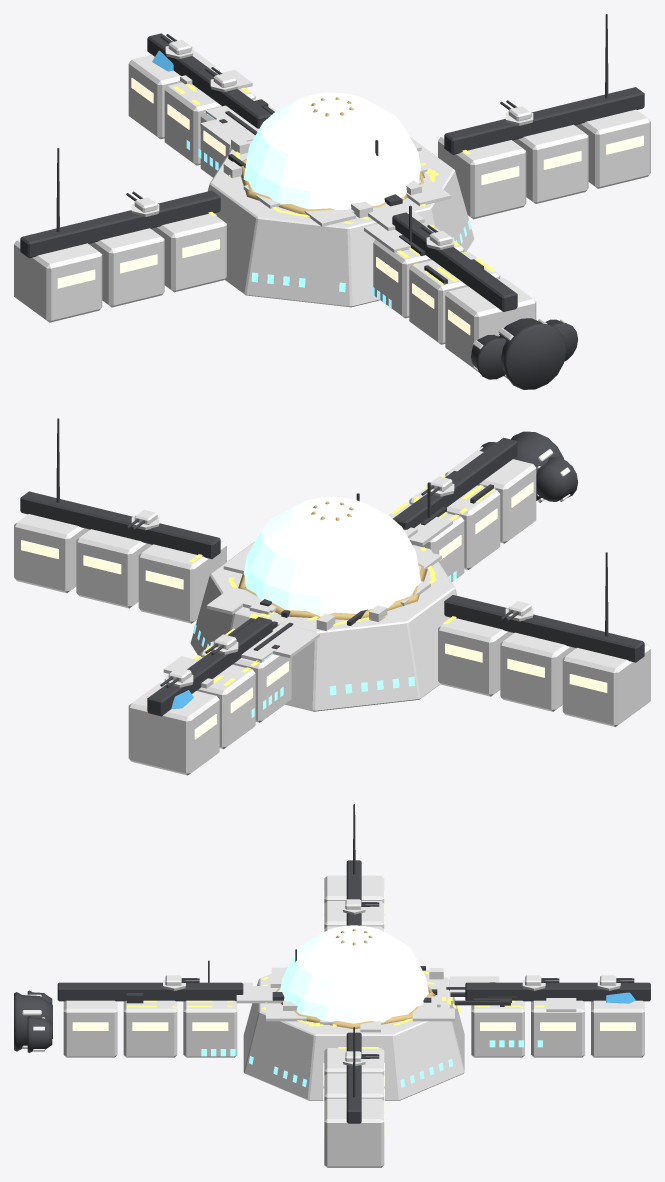
Rendered from veche.glb.
3 renders of one model, top to bottom at view 1: azimuth 30°, elevation 25°; view 2: azimuth 150°, elevation 25°; view 3: azimuth 270°, elevation 25°, orthographic. The views are drawn at different scales.
Parts seen in each view (by area): view 1: Ступица, Купол_совета, Накладные_плиты, Модуль.011, Модуль.006, Ферма_плеча.002, Ферма_плеча.003, Модуль.007, Модуль.010, Модуль.009, Модуль.008, Кожух_дюзы (+14 smaller); view 2: Ступица, Купол_совета, Модуль.002, Модуль.011, Накладные_плиты, Модуль.006, Ферма_плеча.003, Ферма_плеча.002, Модуль.010, Модуль.007, Модуль.008, Модуль.009 (+13 smaller); view 3: Ступица, Купол_совета, Модуль.008, Накладные_плиты, Ферма_плеча.001, Модуль.005, Ферма_плеча, Модуль.004, Модуль.002, Модуль.003, Модуль, Модуль.001 (+12 smaller).
Boxes of the visible parts, x1,y1,x2,y2 form: Ступица: (208, 137, 474, 307); Купол_совета: (243, 92, 420, 209); Накладные_плиты: (180, 69, 451, 252); Модуль.011: (14, 239, 102, 322); Модуль.006: (438, 136, 526, 219); Ферма_плеча.002: (444, 87, 644, 154); Ферма_плеча.003: (20, 190, 220, 258); Модуль.007: (512, 124, 588, 203); Модуль.010: (89, 228, 164, 307); Модуль.009: (151, 213, 226, 292); Модуль.008: (575, 109, 650, 188); Кожух_дюзы: (499, 318, 566, 389); Ступица: (190, 541, 457, 711); Купол_совета: (243, 497, 420, 616); Модуль.002: (128, 682, 219, 775); Модуль.011: (562, 644, 650, 726); Накладные_плиты: (163, 516, 452, 688); Модуль.006: (138, 540, 226, 623); Ферма_плеча.003: (444, 595, 644, 662); Ферма_плеча.002: (20, 491, 220, 559); Модуль.010: (500, 632, 575, 711); Модуль.007: (76, 529, 151, 608); Модуль.008: (14, 514, 89, 593); Модуль.009: (438, 618, 513, 696); Ступица: (243, 967, 464, 1100); Купол_совета: (280, 925, 428, 1023); Модуль.008: (324, 1098, 384, 1167); Накладные_плиты: (236, 967, 576, 1032); Ферма_плеча.001: (57, 982, 243, 1001); Модуль.005: (63, 1000, 117, 1057); Ферма_плеча: (465, 982, 650, 1001); Модуль.004: (123, 1000, 177, 1057); Модуль.002: (591, 1000, 644, 1057); Модуль.003: (183, 1000, 237, 1057); Модуль: (471, 1000, 524, 1057); Модуль.001: (531, 1000, 584, 1057).
Bounding box in the file's own units: 1.98 × 0.51 × 2.13.
